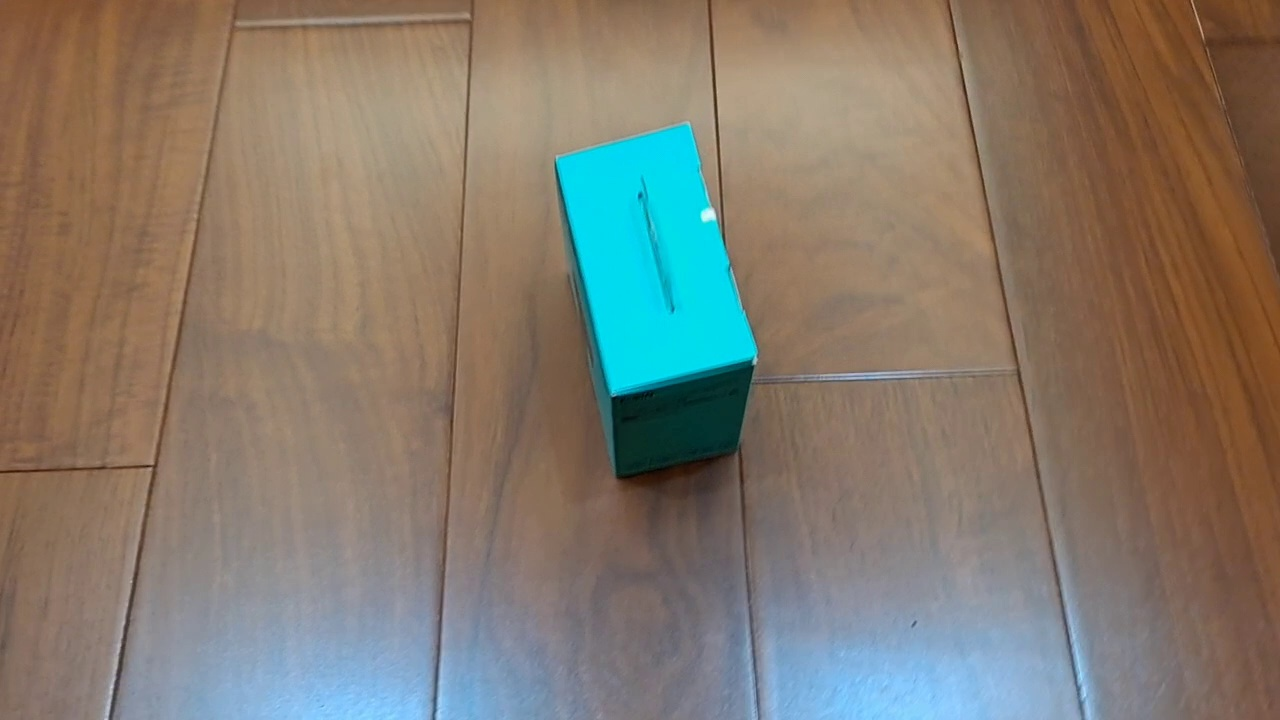webcam: (553, 120, 760, 481)
